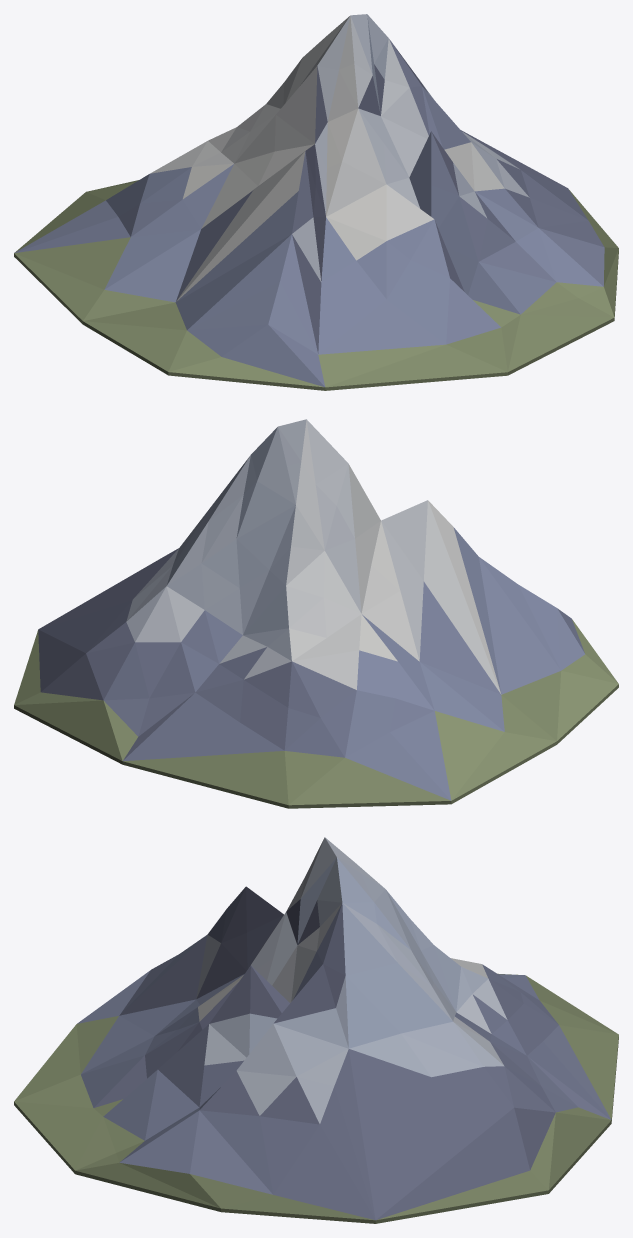
File: massif_frost_crown.glb
3 views of the same model, one above another, from view 1: azimuth 30°, elevation 25°; view 2: azimuth 150°, elevation 25°; view 3: azimuth 270°, elevation 25° (orthographic). The views are drawn at different scales.
Parts seen in each view (by area): view 1: massif_frost_crown; view 2: massif_frost_crown; view 3: massif_frost_crown.
Boxes of the visible parts, x1=… form: massif_frost_crown: x1=14, y1=14, x2=618, y2=390; massif_frost_crown: x1=14, y1=419, x2=618, y2=808; massif_frost_crown: x1=14, y1=837, x2=618, y2=1223.
Bounding box in the file's own units: 975 × 472 × 980.
